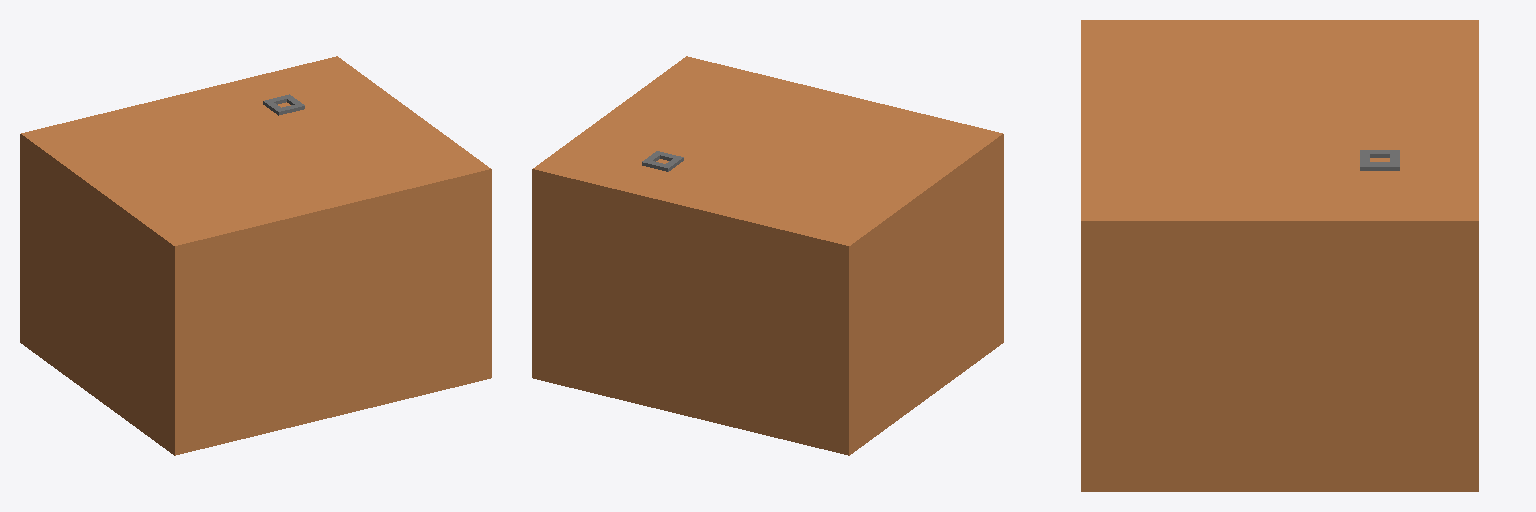
URDF robot description (box):
<?xml version="1.0"?>
<robot name="box">
  <link name="box">
    <visual>
      <material name="wood">
        <color rgba="0.82 0.56 0.35 1.0"/>
      </material>
      <origin xyz="0 0 0"/>
      <geometry>
        <box size="0.475 0.4 0.3"/>
      </geometry>
    </visual>
    <collision>
      <origin xyz="0 0 0"/>
      <geometry>
        <box size="0.475 0.4 0.3"/>
      </geometry>
    </collision>

    <!-- Screwdriver Hole -->
    <!-- Four walls making a hole -->
    <!-- Let the hole center be at x=0.1, y=0.1, z=0.165 -->
    <!-- Let the hole width be 0.02, height be 0.02 -->
    <!-- It will be a square hole made up of four walls -->
    <!-- The thickness of the walls is 0.01 -->
    
    <!-- Top wall (positive Y) - extended to connect at corners -->
    <visual>
      <material name="grey">
        <color rgba="0.5 0.5 0.5 1.0"/>
      </material>
      <origin xyz="0.1 0.115 0.1525"/>
      <geometry>
        <box size="0.04 0.01 0.005"/>
      </geometry>
    </visual>
    <collision>
      <origin xyz="0.1 0.115 0.1525"/>
      <geometry>
        <box size="0.04 0.01 0.005"/>
      </geometry>
    </collision>
    
    <!-- Bottom wall (negative Y) - extended to connect at corners -->
    <visual>
      <material name="grey">
        <color rgba="0.5 0.5 0.5 1.0"/>
      </material>
      <origin xyz="0.1 0.085 0.1525"/>
      <geometry>
        <box size="0.04 0.01 0.005"/>
      </geometry>
    </visual>
    <collision>
      <origin xyz="0.1 0.085 0.1525"/>
      <geometry>
        <box size="0.04 0.01 0.005"/>
      </geometry>
    </collision>
    
    <!-- Right wall (positive X) - fits between top and bottom -->
    <visual>
      <material name="grey">
        <color rgba="0.5 0.5 0.5 1.0"/>
      </material>
      <origin xyz="0.115 0.1 0.1525"/>
      <geometry>
        <box size="0.01 0.02 0.005"/>
      </geometry>
    </visual>
    <collision>
      <origin xyz="0.115 0.1 0.1525"/>
      <geometry>
        <box size="0.01 0.02 0.005"/>
      </geometry>
    </collision>
    
    <!-- Left wall (negative X) - fits between top and bottom -->
    <visual>
      <material name="grey">
        <color rgba="0.5 0.5 0.5 1.0"/>
      </material>
      <origin xyz="0.085 0.1 0.1525"/>
      <geometry>
        <box size="0.01 0.02 0.005"/>
      </geometry>
    </visual>
    <collision>
      <origin xyz="0.085 0.1 0.1525"/>
      <geometry>
        <box size="0.01 0.02 0.005"/>
      </geometry>
    </collision>

    <inertial>
      <mass value="500"/>
      <friction value="1.0"/>
      <inertia ixx="1000.0" ixy="0.0" ixz="0.0" iyy="1000.0" iyz="0.0" izz="1000.0"/>
    </inertial>
  </link>
</robot>

--- Render facts (derived) ---
Views: 3 orthographic renders of the robot side by side, from view 1: azimuth 30°, elevation 25°; view 2: azimuth 150°, elevation 25°; view 3: azimuth 270°, elevation 25°.
Model box with 1 links and 0 joints (none), rooted at box, posed all joints at 0.
Visible links, largest first — view 1: box; view 2: box; view 3: box.
Boxes of the visible links, x1,y1,x2,y2 form: box: (20,56,491,455); box: (532,56,1003,455); box: (1081,20,1478,491).
Bounding box of the posed robot: 0.475 × 0.4 × 0.305 m (x, y, z).
Geometry: primitives only (box / cylinder / sphere), no mesh files.
